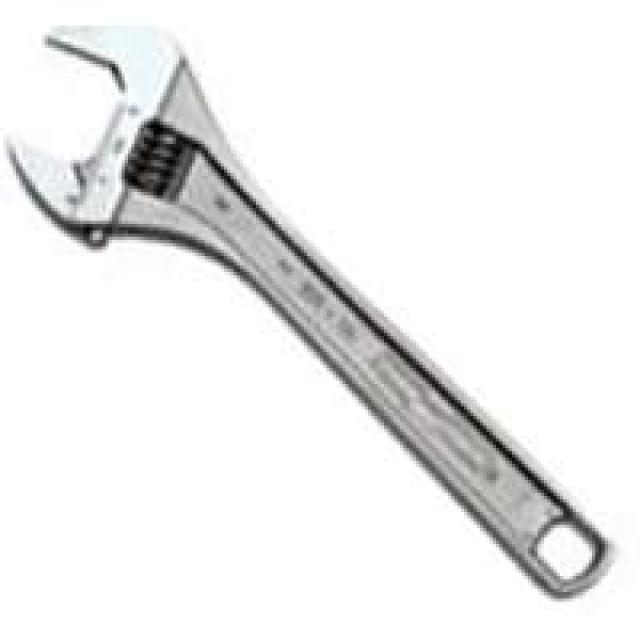wrench: (0, 0, 566, 419)
